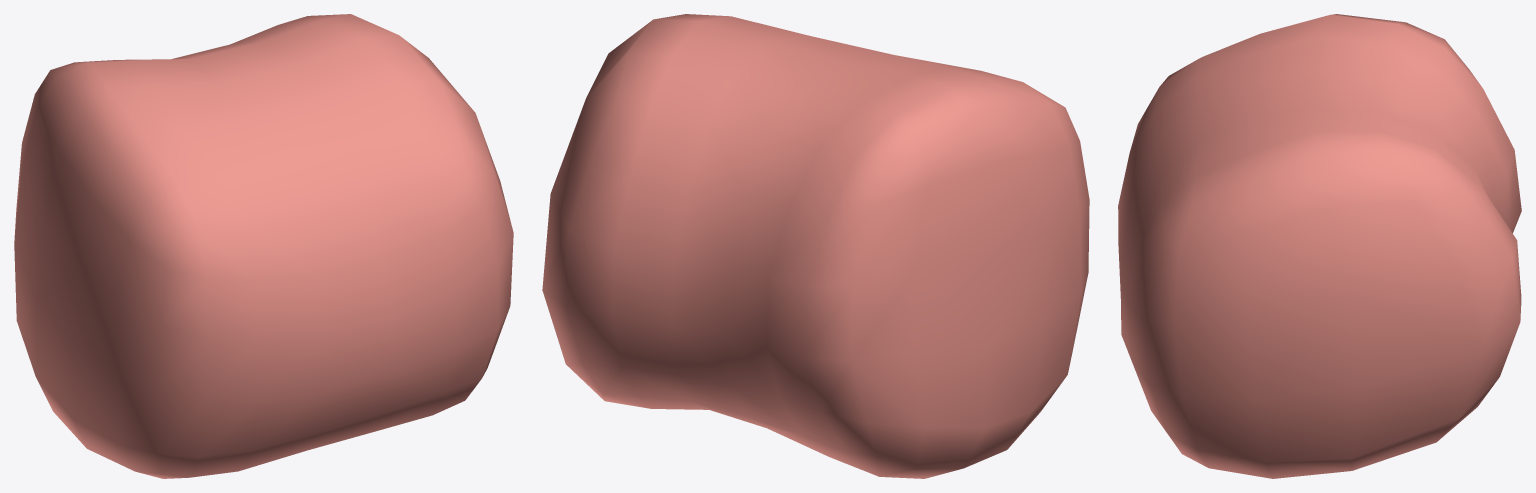
The model's file is mixamo_humanoid_surface_leftHandPinky2.fbx.
3 views of the same model, side by side, from view 1: azimuth 30°, elevation 25°; view 2: azimuth 150°, elevation 25°; view 3: azimuth 270°, elevation 25° (orthographic). The views are drawn at different scales.
Visible parts, largest first — view 1: surface_LeftHandPinky2; view 2: surface_LeftHandPinky2; view 3: surface_LeftHandPinky2.
Boxes of the visible parts, <box> form: surface_LeftHandPinky2: <box>14,14,513,478</box>; surface_LeftHandPinky2: <box>542,14,1089,478</box>; surface_LeftHandPinky2: <box>1118,14,1521,478</box>.
Bounding box in the file's own units: 1.92 × 1.61 × 1.72.
